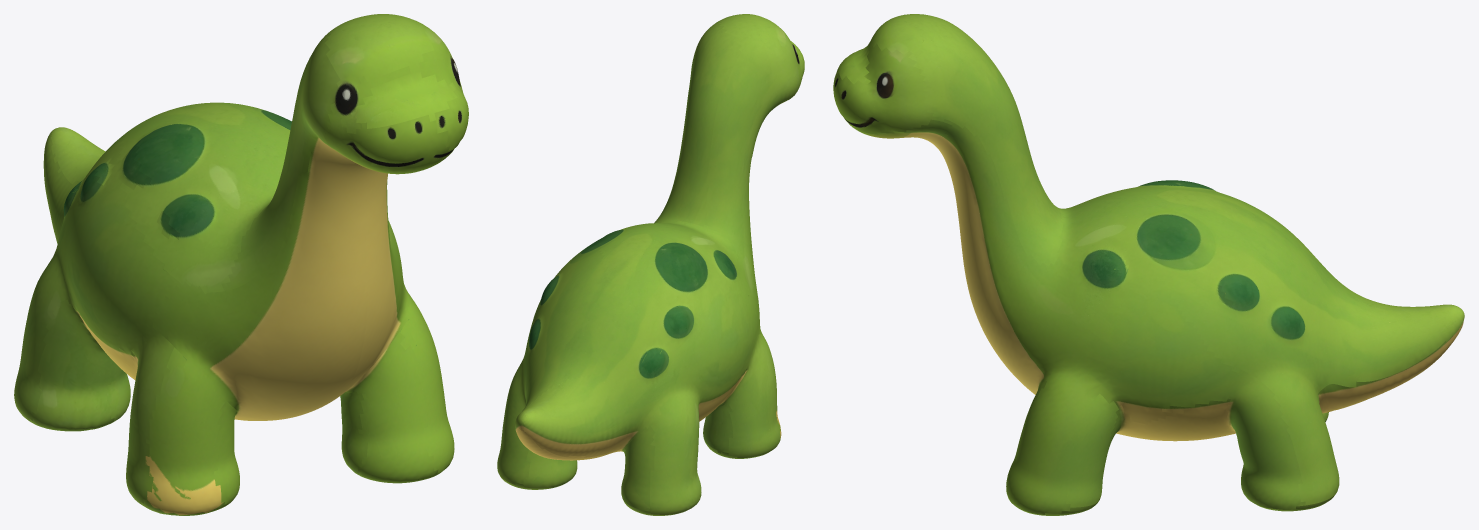
File: toy_dino.glb
3 views of the same model, side by side, from view 1: azimuth 30°, elevation 25°; view 2: azimuth 150°, elevation 25°; view 3: azimuth 270°, elevation 25° (orthographic). The views are drawn at different scales.
Parts seen in each view (by area): view 1: Mesh0; view 2: Mesh0; view 3: Mesh0.
Part boxes in pixels (<box>): Mesh0: <box>14,14,468,515</box>; Mesh0: <box>497,14,804,515</box>; Mesh0: <box>833,14,1464,515</box>.
Size of the model in its own units: 0.851 by 1.47 by 1.9.
Materials: 1 (1 with a texture image).
